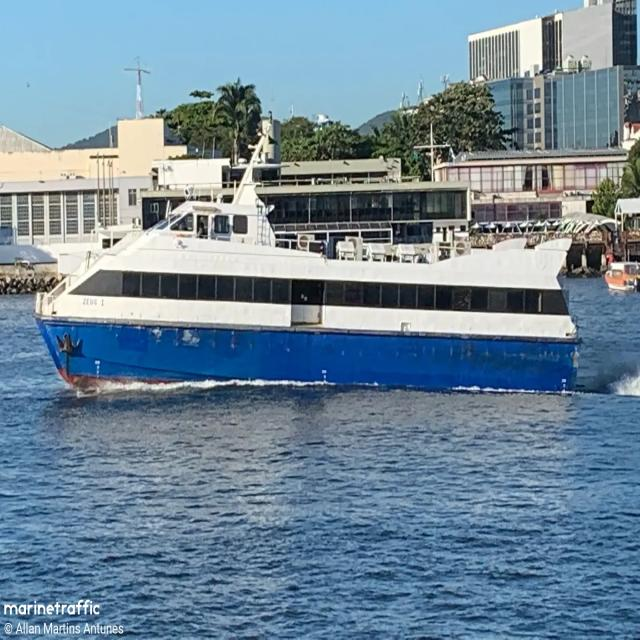Passenger: (35, 124, 579, 392)
